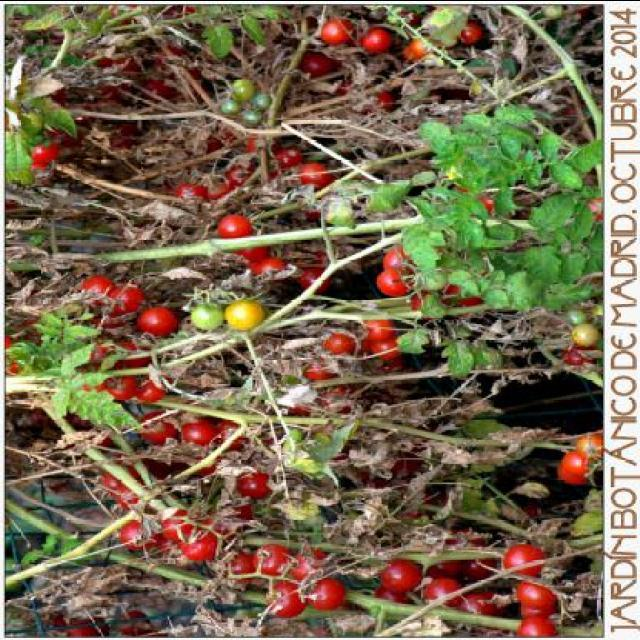Tomato: (4, 274, 264, 402), (377, 186, 486, 314), (174, 132, 328, 200), (302, 318, 400, 378), (224, 214, 287, 278), (403, 18, 479, 64), (337, 78, 394, 112), (266, 578, 308, 616), (382, 560, 422, 592), (504, 546, 547, 574), (254, 543, 292, 574), (305, 580, 341, 611), (420, 577, 458, 606), (286, 552, 328, 578), (219, 550, 255, 579), (117, 518, 149, 550), (162, 508, 194, 540), (182, 528, 212, 561), (142, 414, 176, 443), (236, 471, 272, 498), (181, 421, 217, 448), (456, 590, 496, 612), (562, 448, 590, 478), (556, 462, 592, 484), (322, 14, 349, 43), (519, 583, 553, 605), (29, 137, 60, 161), (517, 618, 557, 636), (302, 54, 331, 78), (576, 434, 602, 460), (24, 158, 52, 180), (517, 603, 551, 620), (364, 26, 388, 50), (155, 530, 177, 556), (374, 586, 406, 603), (464, 556, 490, 574), (434, 556, 457, 572)
